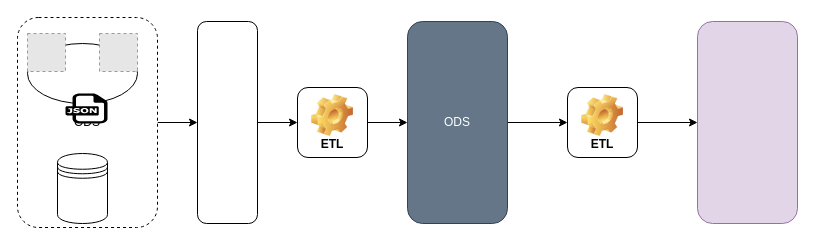
Some shapes in this 815 by 245 pixel diagram are drawn without their labels. Grey dashed boxes stand in for pictures. Each missing label, with the box of its shape:
Data- Warehouse: (696, 20, 798, 224)
Staging database: (196, 20, 258, 224)
